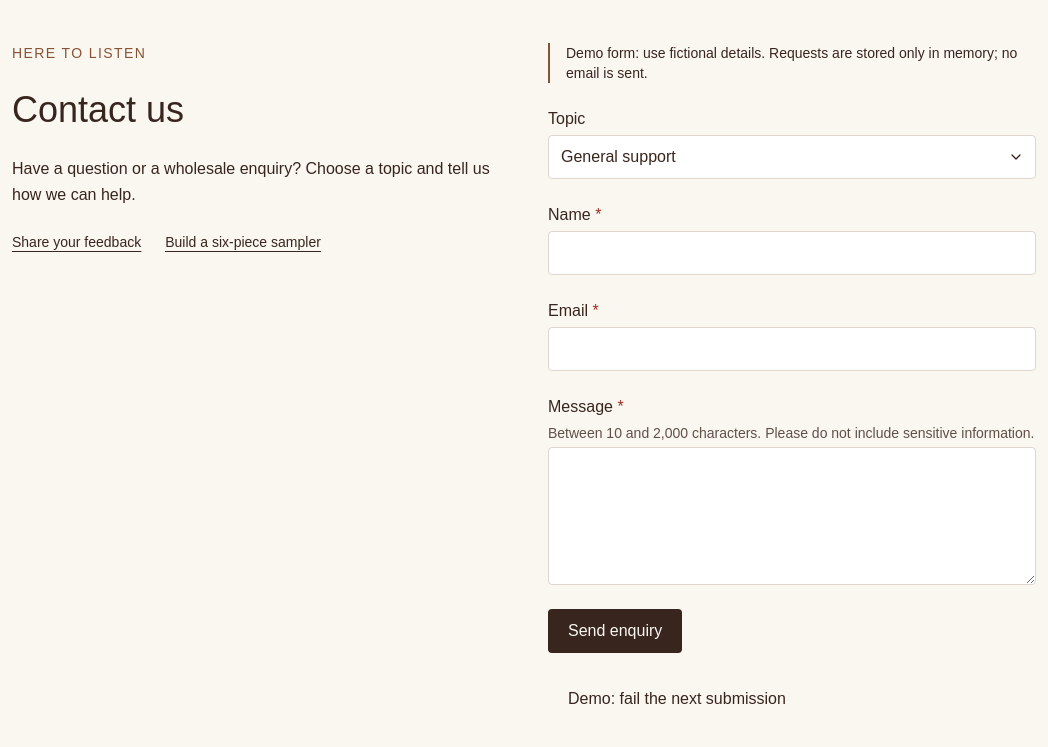
support forms › preserves details and retry ID after {"status":429,"code":"RATE_LIMITED"} and translates the error
Type "Synthetic Shopper" into the field labelled "Name *".
click(792, 253); type("Synthetic Shopper")  # box [548,231,1036,275]
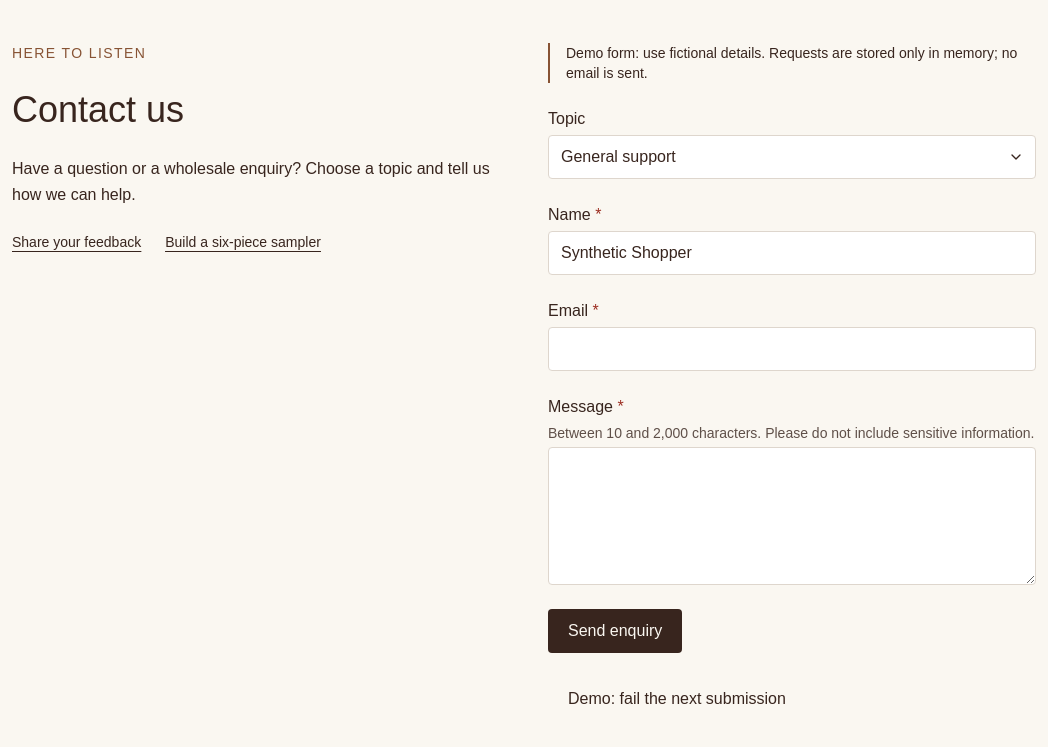
Type "shopper@example.test" into the field labelled "Email *".
click(792, 349); type("shopper@example.test")  # box [548,327,1036,371]
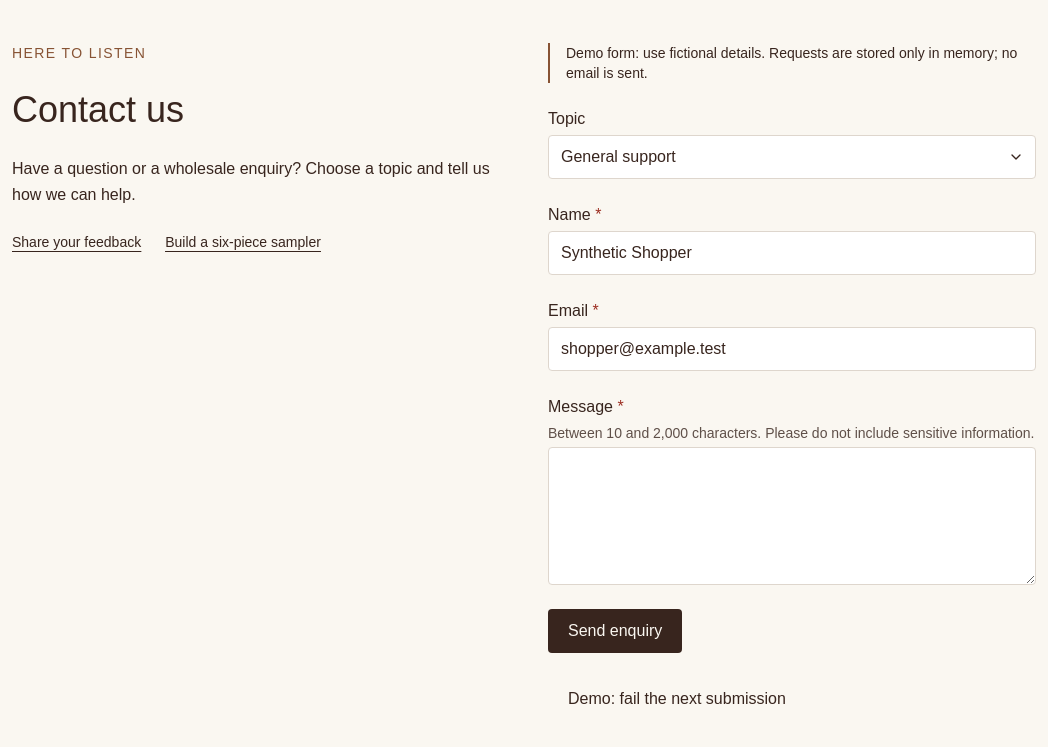
Type "A fictional support question." into the text box labelled "Message *".
click(792, 516); type("A fictional support question.")  # box [548,447,1036,585]
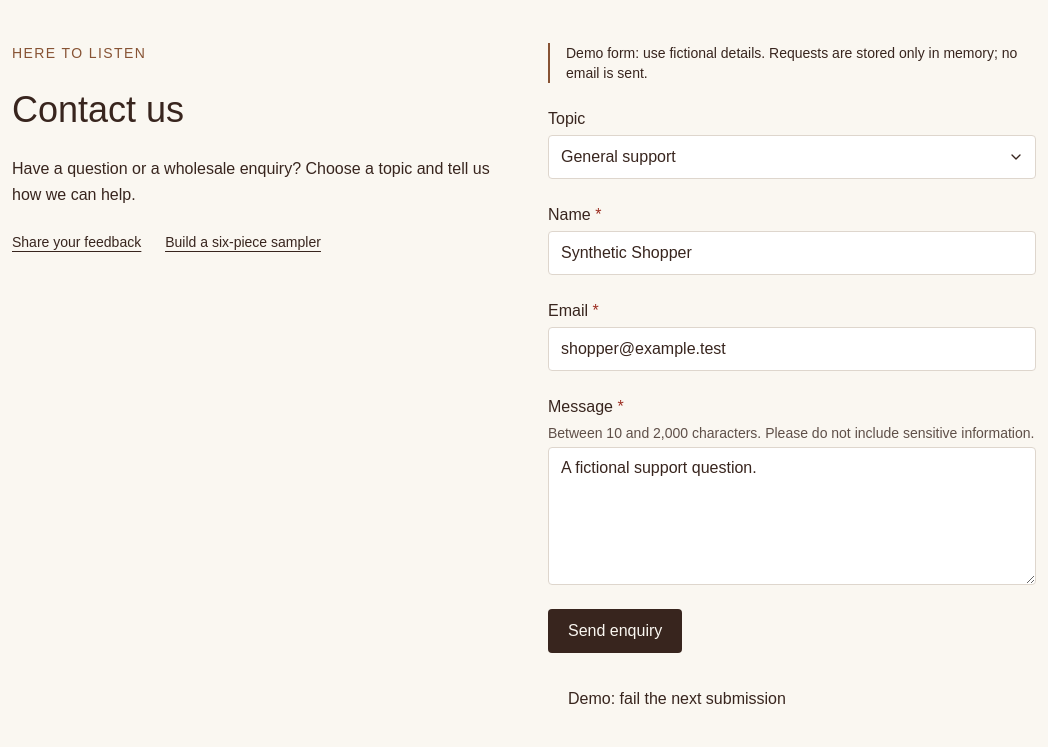
Click the button "Send enquiry".
click(615, 631)  # box [548,609,682,653]
(page scrolled)
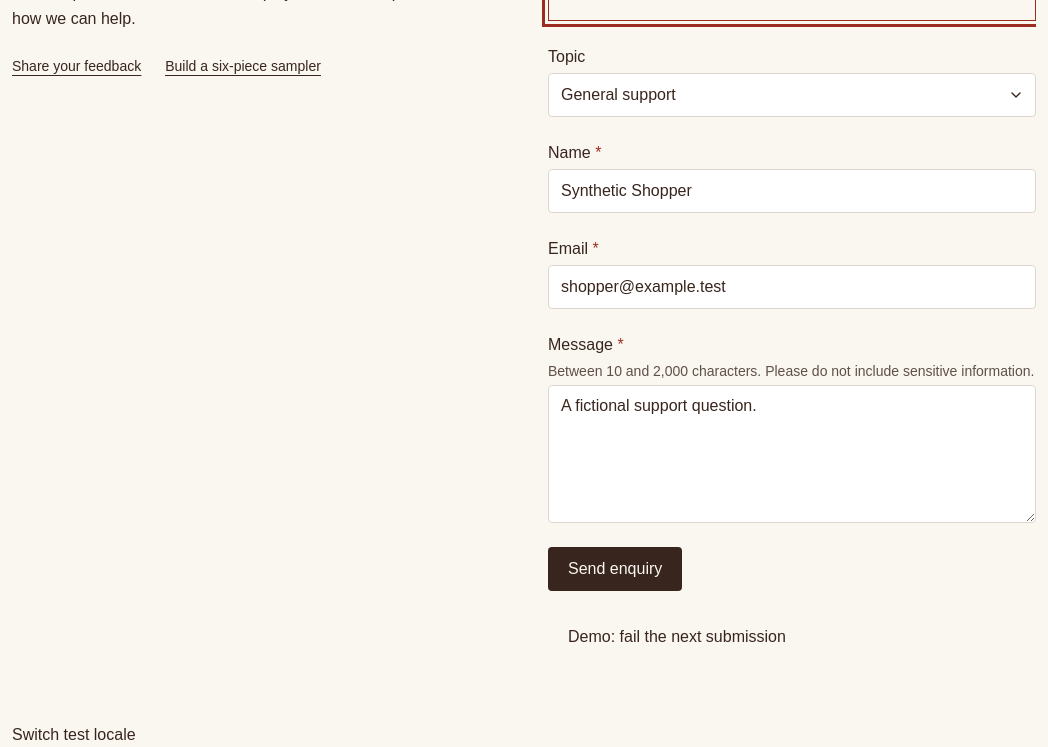
Click the button "Send enquiry".
click(615, 569)  # box [548,547,682,591]
(page scrolled)
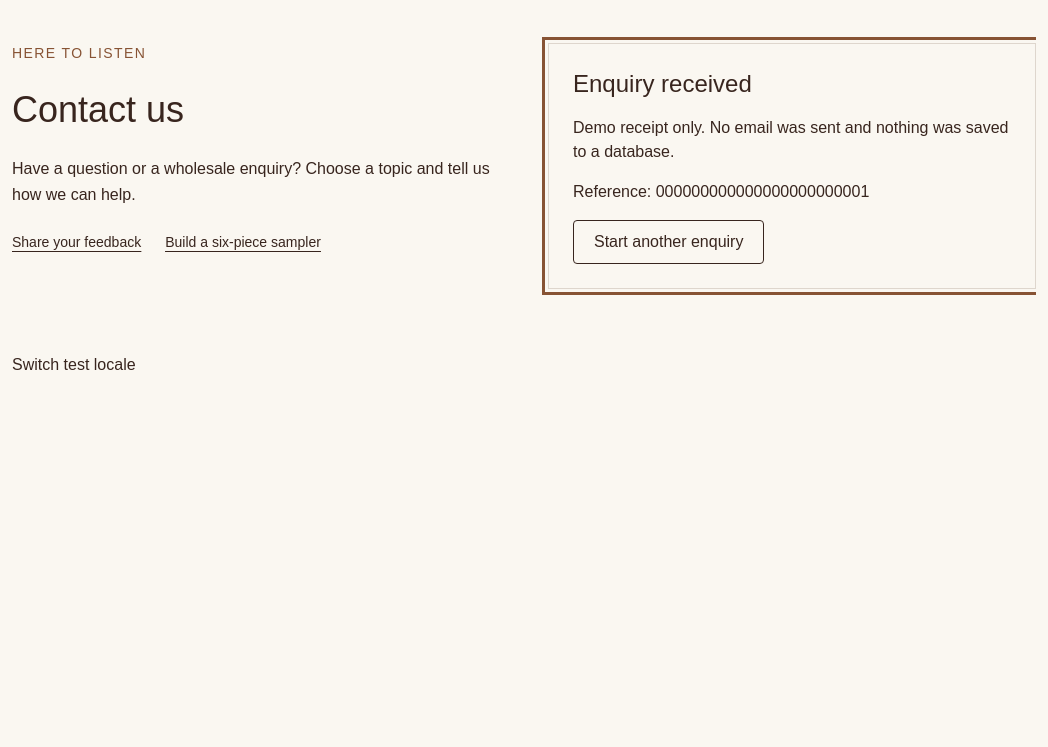
Expected: the text "Demo receipt only. No email was sent and nothing was saved to a database." is shown, [573,116,1011,164]
